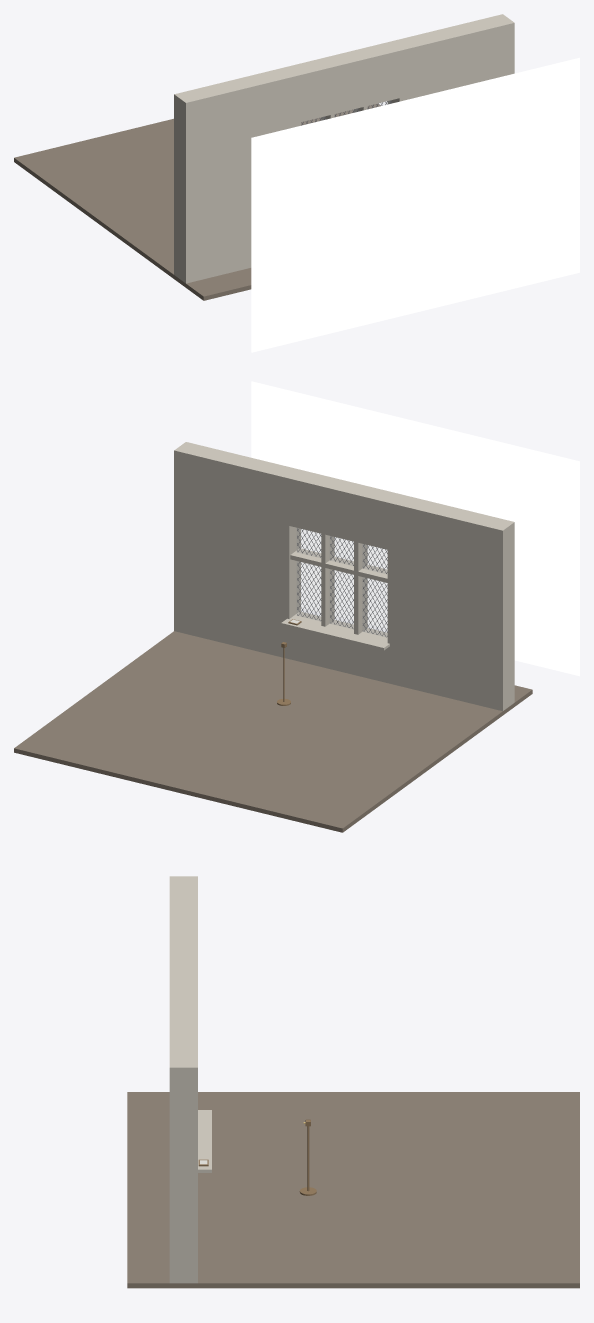
3 views of the same model, one above another, from view 1: azimuth 30°, elevation 25°; view 2: azimuth 150°, elevation 25°; view 3: azimuth 270°, elevation 25° (orthographic). The views are drawn at different scales.
Parts seen in each view (by area): view 1: sky_card, wall_l, floor, wall_r, wall_t; view 2: floor, sky_card, wall_l, wall_r, wall_t, wall_b, sill, glass_10, glass_20, glass_00, mullion_1, mullion_0 (+4 smaller); view 3: floor, wall_r, wall_l, wall_t, sill.
Boxes of the visible parts, x1,y1,x2,y2 form: sky_card: (251,57,579,352); wall_l: (174,66,300,283); floor: (14,103,380,300); wall_r: (387,14,514,104); wall_t: (289,42,399,121); floor: (14,631,532,832); sky_card: (251,381,579,676); wall_l: (387,494,514,711); wall_r: (174,442,300,658); wall_t: (289,470,398,549); wall_b: (289,627,387,682); sill: (281,611,389,650); glass_10: (330,570,353,628); glass_20: (297,561,320,620); glass_00: (363,578,386,636); mullion_1: (321,533,334,626); mullion_0: (354,541,367,634); floor: (127,1092,579,1288); wall_r: (169,1001,197,1283); wall_l: (169,876,197,943); wall_t: (169,943,197,1000); sill: (198,1110,211,1172).
Size of the model in its own units: 8 by 5 by 10.
